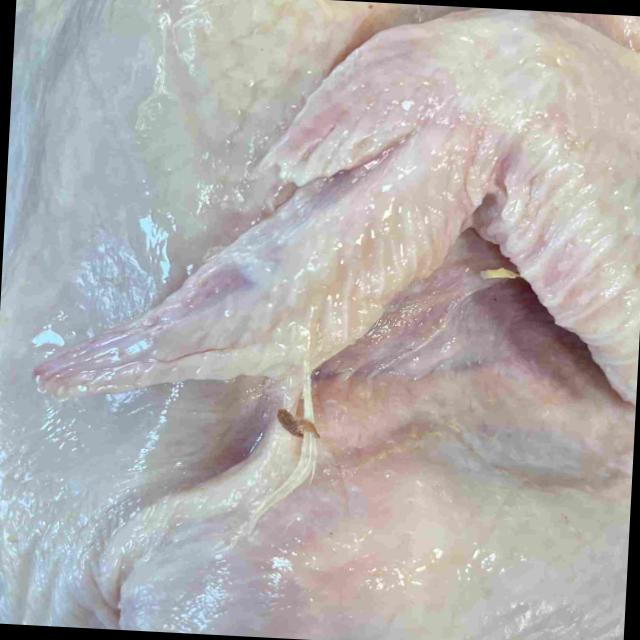leg: (119, 432, 631, 640)
wing: (31, 7, 640, 408)
